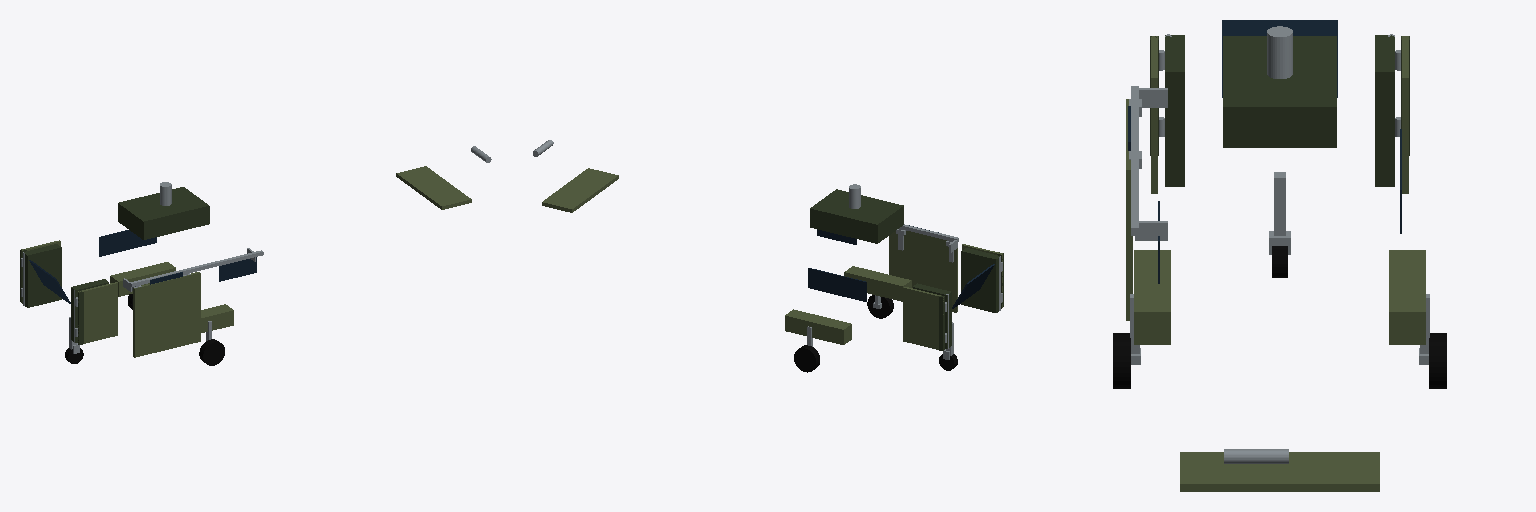
URDF robot description (transport_helicopter):
<robot name="transport_helicopter">
  <material name="olive">
    <color rgba="0.36 0.4 0.28 1" />
    </material>
  <material name="dark_olive">
    <color rgba="0.23 0.27 0.19 1" />
    </material>
  <material name="glass">
    <color rgba="0.12 0.18 0.24 0.7" />
    </material>
  <material name="rotor_gray">
    <color rgba="0.22 0.24 0.26 1" />
    </material>
  <material name="steel">
    <color rgba="0.55 0.58 0.6 1" />
    </material>
  <material name="tire">
    <color rgba="0.08 0.08 0.08 1" />
    </material>
  <link name="body">
    <inertial>
      <origin xyz="2 0 1.8" rpy="0 0 0" />
      <mass value="5200" />
      <inertia ixx="9260.33" ixy="0" ixz="0" iyy="108385" iyz="0" izz="106414" />
      </inertial>
    <visual name="fuselage_shell">
      <geometry>
        <mesh filename="assets/meshes/fuselage_shell.obj" />
        </geometry>
      <material name="olive">
        <color rgba="0.36 0.4 0.28 1" />
        </material>
      </visual>
    <visual name="tail_boom">
      <geometry>
        <mesh filename="assets/meshes/tail_boom.obj" />
        </geometry>
      <material name="olive">
        <color rgba="0.36 0.4 0.28 1" />
        </material>
      </visual>
    <visual name="vertical_fin">
      <geometry>
        <mesh filename="assets/meshes/vertical_fin.obj" />
        </geometry>
      <material name="olive">
        <color rgba="0.36 0.4 0.28 1" />
        </material>
      </visual>
    <visual name="tailplane">
      <origin xyz="6.3 0 1.95" rpy="0 0 0" />
      <geometry>
        <box size="0.7 1.85 0.08" />
        </geometry>
      <material name="olive">
        <color rgba="0.36 0.4 0.28 1" />
        </material>
      </visual>
    <visual name="mast_fairing">
      <origin xyz="-0.05 0 2.86" rpy="0 0 0" />
      <geometry>
        <box size="1.55 1.05 0.42" />
        </geometry>
      <material name="dark_olive">
        <color rgba="0.23 0.27 0.19 1" />
        </material>
      </visual>
    <visual name="engine_pod_0">
      <origin xyz="-0.2 0.56 2.98" rpy="0 0 0" />
      <geometry>
        <mesh filename="assets/meshes/engine_pod_0.obj" />
        </geometry>
      <material name="olive">
        <color rgba="0.36 0.4 0.28 1" />
        </material>
      </visual>
    <visual name="engine_pod_1">
      <origin xyz="-0.2 -0.56 2.98" rpy="0 0 0" />
      <geometry>
        <mesh filename="assets/meshes/engine_pod_1.obj" />
        </geometry>
      <material name="olive">
        <color rgba="0.36 0.4 0.28 1" />
        </material>
      </visual>
    <visual name="mast">
      <origin xyz="0 0 3.28" rpy="0 0 0" />
      <geometry>
        <cylinder radius="0.12" length="0.44" />
        </geometry>
      <material name="steel">
        <color rgba="0.55 0.58 0.6 1" />
        </material>
      </visual>
    <visual name="tail_rotor_support">
      <origin xyz="7.28 -0.22 2.56" rpy="1.5708 0 0" />
      <geometry>
        <cylinder radius="0.07" length="0.6" />
        </geometry>
      <material name="steel">
        <color rgba="0.55 0.58 0.6 1" />
        </material>
      </visual>
    <visual name="door_rail">
      <origin xyz="-0.05 -1.34 2.16" rpy="0 0 0" />
      <geometry>
        <box size="3.1 0.08 0.08" />
        </geometry>
      <material name="steel">
        <color rgba="0.55 0.58 0.6 1" />
        </material>
      </visual>
    <visual name="rail_bracket_0">
      <origin xyz="-1.58 -1.19 2.09" rpy="0 0 0" />
      <geometry>
        <box size="0.04 0.3 0.18" />
        </geometry>
      <material name="steel">
        <color rgba="0.55 0.58 0.6 1" />
        </material>
      </visual>
    <visual name="rail_bracket_1">
      <origin xyz="1.33 -1.19 2.09" rpy="0 0 0" />
      <geometry>
        <box size="0.04 0.3 0.18" />
        </geometry>
      <material name="steel">
        <color rgba="0.55 0.58 0.6 1" />
        </material>
      </visual>
    <visual name="left_door_frame">
      <origin xyz="-2.34 0.97 1.6" rpy="0 0 0" />
      <geometry>
        <box size="0.8 0.19 1.18" />
        </geometry>
      <material name="dark_olive">
        <color rgba="0.23 0.27 0.19 1" />
        </material>
      </visual>
    <visual name="right_door_frame">
      <origin xyz="-2.34 -0.97 1.6" rpy="0 0 0" />
      <geometry>
        <box size="0.8 0.19 1.18" />
        </geometry>
      <material name="dark_olive">
        <color rgba="0.23 0.27 0.19 1" />
        </material>
      </visual>
    <visual name="left_hinge_post">
      <origin xyz="-2.72 1.03 1.6" rpy="0 0 0" />
      <geometry>
        <cylinder radius="0.035" length="1.18" />
        </geometry>
      <material name="steel">
        <color rgba="0.55 0.58 0.6 1" />
        </material>
      </visual>
    <visual name="right_hinge_post">
      <origin xyz="-2.72 -1.03 1.6" rpy="0 0 0" />
      <geometry>
        <cylinder radius="0.035" length="1.18" />
        </geometry>
      <material name="steel">
        <color rgba="0.55 0.58 0.6 1" />
        </material>
      </visual>
    <visual name="sponson_0">
      <origin xyz="0.15 1.18 0.86" rpy="0 0 0" />
      <geometry>
        <box size="1.35 0.34 0.34" />
        </geometry>
      <material name="olive">
        <color rgba="0.36 0.4 0.28 1" />
        </material>
      </visual>
    <visual name="main_strut_0">
      <origin xyz="0.25 1.34 0.61" rpy="0 0 0" />
      <geometry>
        <box size="0.09 0.09 0.62" />
        </geometry>
      <material name="steel">
        <color rgba="0.55 0.58 0.6 1" />
        </material>
      </visual>
    <visual name="main_axle_0">
      <origin xyz="0.25 1.38 0.3" rpy="0 0 0" />
      <geometry>
        <box size="0.16 0.18 0.1" />
        </geometry>
      <material name="steel">
        <color rgba="0.55 0.58 0.6 1" />
        </material>
      </visual>
    <visual name="main_wheel_0">
      <origin xyz="0.25 1.46 0.26" rpy="1.5708 0 0" />
      <geometry>
        <cylinder radius="0.26" length="0.16" />
        </geometry>
      <material name="tire">
        <color rgba="0.08 0.08 0.08 1" />
        </material>
      </visual>
    <visual name="sponson_1">
      <origin xyz="0.15 -1.18 0.86" rpy="0 0 0" />
      <geometry>
        <box size="1.35 0.34 0.34" />
        </geometry>
      <material name="olive">
        <color rgba="0.36 0.4 0.28 1" />
        </material>
      </visual>
    <visual name="main_strut_1">
      <origin xyz="0.25 -1.34 0.61" rpy="0 0 0" />
      <geometry>
        <box size="0.09 0.09 0.62" />
        </geometry>
      <material name="steel">
        <color rgba="0.55 0.58 0.6 1" />
        </material>
      </visual>
    <visual name="main_axle_1">
      <origin xyz="0.25 -1.38 0.3" rpy="0 0 0" />
      <geometry>
        <box size="0.16 0.18 0.1" />
        </geometry>
      <material name="steel">
        <color rgba="0.55 0.58 0.6 1" />
        </material>
      </visual>
    <visual name="main_wheel_1">
      <origin xyz="0.25 -1.46 0.26" rpy="1.5708 0 0" />
      <geometry>
        <cylinder radius="0.26" length="0.16" />
        </geometry>
      <material name="tire">
        <color rgba="0.08 0.08 0.08 1" />
        </material>
      </visual>
    <visual name="nose_strut">
      <origin xyz="-2.18 0 0.66" rpy="0 0 0" />
      <geometry>
        <box size="0.12 0.12 0.72" />
        </geometry>
      <material name="steel">
        <color rgba="0.55 0.58 0.6 1" />
        </material>
      </visual>
    <visual name="nose_fork">
      <origin xyz="-2.15 0 0.34" rpy="0 0 0" />
      <geometry>
        <box size="0.14 0.2 0.18" />
        </geometry>
      <material name="steel">
        <color rgba="0.55 0.58 0.6 1" />
        </material>
      </visual>
    <visual name="nose_wheel">
      <origin xyz="-2.15 0 0.18" rpy="1.5708 0 0" />
      <geometry>
        <cylinder radius="0.18" length="0.14" />
        </geometry>
      <material name="tire">
        <color rgba="0.08 0.08 0.08 1" />
        </material>
      </visual>
    <visual name="windshield">
      <origin xyz="-2.72 0 1.95" rpy="0 -0.5 0" />
      <geometry>
        <box size="0.03 1.08 0.72" />
        </geometry>
      <material name="glass">
        <color rgba="0.12 0.18 0.24 0.7" />
        </material>
      </visual>
    <visual name="left_cabin_glass">
      <origin xyz="-0.25 1.12 1.86" rpy="0 0 0" />
      <geometry>
        <box size="1.35 0.025 0.44" />
        </geometry>
      <material name="glass">
        <color rgba="0.12 0.18 0.24 0.7" />
        </material>
      </visual>
    <visual name="right_rear_glass">
      <origin xyz="1.05 -1.12 1.84" rpy="0 0 0" />
      <geometry>
        <box size="0.9 0.025 0.42" />
        </geometry>
      <material name="glass">
        <color rgba="0.12 0.18 0.24 0.7" />
        </material>
      </visual>
    </link>
  <link name="main_rotor">
    <inertial>
      <origin xyz="0 0 0.12" rpy="0 0 0" />
      <mass value="240" />
      <inertia ixx="2233.75" ixy="0" ixz="0" iyy="2233.75" iyz="0" izz="4465.2" />
      </inertial>
    <visual name="main_rotor">
      <geometry>
        <mesh filename="assets/meshes/main_rotor.obj" />
        </geometry>
      <material name="rotor_gray">
        <color rgba="0.22 0.24 0.26 1" />
        </material>
      </visual>
    </link>
  <link name="tail_rotor">
    <inertial>
      <origin xyz="0 0 0" rpy="1.5708 0 0" />
      <mass value="28" />
      <inertia ixx="6.03773" ixy="0" ixz="0" iyy="6.03773" iyz="0" izz="11.8496" />
      </inertial>
    <visual name="tail_rotor">
      <geometry>
        <mesh filename="assets/meshes/tail_rotor.obj" />
        </geometry>
      <material name="rotor_gray">
        <color rgba="0.22 0.24 0.26 1" />
        </material>
      </visual>
    </link>
  <link name="left_cockpit_door">
    <inertial>
      <origin xyz="0.46 0 0" rpy="0 0 0" />
      <mass value="35" />
      <inertia ixx="4.07983" ixy="0" ixz="0" iyy="6.52983" iyz="0" izz="2.48733" />
      </inertial>
    <visual name="left_panel">
      <origin xyz="0.46 0 0" rpy="0 0 0" />
      <geometry>
        <box size="0.92 0.06 1.18" />
        </geometry>
      <material name="olive">
        <color rgba="0.36 0.4 0.28 1" />
        </material>
      </visual>
    <visual name="left_hinge_strip">
      <origin xyz="0.05 0 0" rpy="0 0 0" />
      <geometry>
        <box size="0.1 0.08 1.18" />
        </geometry>
      <material name="dark_olive">
        <color rgba="0.23 0.27 0.19 1" />
        </material>
      </visual>
    <visual name="left_window">
      <origin xyz="0.48 0 0.18" rpy="0 0 0" />
      <geometry>
        <box size="0.5 0.025 0.56" />
        </geometry>
      <material name="glass">
        <color rgba="0.12 0.18 0.24 0.7" />
        </material>
      </visual>
    <visual name="left_hinge_upper">
      <origin xyz="0 -0.06 0.34" rpy="0 0 0" />
      <geometry>
        <cylinder radius="0.035" length="0.18" />
        </geometry>
      <material name="steel">
        <color rgba="0.55 0.58 0.6 1" />
        </material>
      </visual>
    <visual name="left_hinge_lower">
      <origin xyz="0 -0.06 -0.34" rpy="0 0 0" />
      <geometry>
        <cylinder radius="0.035" length="0.18" />
        </geometry>
      <material name="steel">
        <color rgba="0.55 0.58 0.6 1" />
        </material>
      </visual>
    </link>
  <link name="right_cockpit_door">
    <inertial>
      <origin xyz="0.46 0 0" rpy="0 0 0" />
      <mass value="35" />
      <inertia ixx="4.07983" ixy="0" ixz="0" iyy="6.52983" iyz="0" izz="2.48733" />
      </inertial>
    <visual name="right_panel">
      <origin xyz="0.46 0 0" rpy="0 0 0" />
      <geometry>
        <box size="0.92 0.06 1.18" />
        </geometry>
      <material name="olive">
        <color rgba="0.36 0.4 0.28 1" />
        </material>
      </visual>
    <visual name="right_hinge_strip">
      <origin xyz="0.05 0 0" rpy="0 0 0" />
      <geometry>
        <box size="0.1 0.08 1.18" />
        </geometry>
      <material name="dark_olive">
        <color rgba="0.23 0.27 0.19 1" />
        </material>
      </visual>
    <visual name="right_window">
      <origin xyz="0.48 0 0.18" rpy="0 0 0" />
      <geometry>
        <box size="0.5 0.025 0.56" />
        </geometry>
      <material name="glass">
        <color rgba="0.12 0.18 0.24 0.7" />
        </material>
      </visual>
    <visual name="right_hinge_upper">
      <origin xyz="0 0.06 0.34" rpy="0 0 0" />
      <geometry>
        <cylinder radius="0.035" length="0.18" />
        </geometry>
      <material name="steel">
        <color rgba="0.55 0.58 0.6 1" />
        </material>
      </visual>
    <visual name="right_hinge_lower">
      <origin xyz="0 0.06 -0.34" rpy="0 0 0" />
      <geometry>
        <cylinder radius="0.035" length="0.18" />
        </geometry>
      <material name="steel">
        <color rgba="0.55 0.58 0.6 1" />
        </material>
      </visual>
    </link>
  <link name="right_cabin_door">
    <inertial>
      <origin xyz="0.78 -0.03 -0.82" rpy="0 0 0" />
      <mass value="70" />
      <inertia ixx="14.9917" ixy="0" ixz="0" iyy="28.9479" iyz="0" izz="14.0729" />
      </inertial>
    <visual name="cabin_panel">
      <origin xyz="0.775 -0.05 -0.84" rpy="0 0 0" />
      <geometry>
        <box size="1.55 0.06 1.55" />
        </geometry>
      <material name="olive">
        <color rgba="0.36 0.4 0.28 1" />
        </material>
      </visual>
    <visual name="cabin_window">
      <origin xyz="0.76 -0.055 -0.22" rpy="0 0 0" />
      <geometry>
        <box size="0.78 0.025 0.5" />
        </geometry>
      <material name="glass">
        <color rgba="0.12 0.18 0.24 0.7" />
        </material>
      </visual>
    <visual name="front_hanger">
      <origin xyz="0.1 0 -0.27" rpy="0 0 0" />
      <geometry>
        <box size="0.1 0.08 0.46" />
        </geometry>
      <material name="steel">
        <color rgba="0.55 0.58 0.6 1" />
        </material>
      </visual>
    <visual name="rear_hanger">
      <origin xyz="1.25 0 -0.27" rpy="0 0 0" />
      <geometry>
        <box size="0.1 0.08 0.46" />
        </geometry>
      <material name="steel">
        <color rgba="0.55 0.58 0.6 1" />
        </material>
      </visual>
    <visual name="front_carriage">
      <origin xyz="0.1 0 -0.11" rpy="0 0 0" />
      <geometry>
        <box size="0.18 0.12 0.1" />
        </geometry>
      <material name="steel">
        <color rgba="0.55 0.58 0.6 1" />
        </material>
      </visual>
    <visual name="rear_carriage">
      <origin xyz="1.25 0 -0.11" rpy="0 0 0" />
      <geometry>
        <box size="0.18 0.12 0.1" />
        </geometry>
      <material name="steel">
        <color rgba="0.55 0.58 0.6 1" />
        </material>
      </visual>
    </link>
  <joint name="body_to_main_rotor" type="continuous">
    <origin xyz="0 0 3.5" rpy="0 0 0" />
    <parent link="body" />
    <child link="main_rotor" />
    <axis xyz="0 0 1" />
    <limit effort="1800" velocity="40" />
    </joint>
  <joint name="body_to_tail_rotor" type="continuous">
    <origin xyz="7.28 -0.61 2.56" rpy="0 0 0" />
    <parent link="body" />
    <child link="tail_rotor" />
    <axis xyz="0 -1 0" />
    <limit effort="300" velocity="70" />
    </joint>
  <joint name="body_to_left_cockpit_door" type="revolute">
    <origin xyz="-2.72 1.16 1.6" rpy="0 0 0" />
    <parent link="body" />
    <child link="left_cockpit_door" />
    <axis xyz="0 0 1" />
    <limit effort="120" velocity="1.4" lower="0" upper="1.25664" />
    </joint>
  <joint name="body_to_right_cockpit_door" type="revolute">
    <origin xyz="-2.72 -1.16 1.6" rpy="0 0 0" />
    <parent link="body" />
    <child link="right_cockpit_door" />
    <axis xyz="0 0 -1" />
    <limit effort="120" velocity="1.4" lower="0" upper="1.25664" />
    </joint>
  <joint name="body_to_right_cabin_door" type="prismatic">
    <origin xyz="-1.55 -1.34 2.16" rpy="0 0 0" />
    <parent link="body" />
    <child link="right_cabin_door" />
    <axis xyz="1 0 0" />
    <limit effort="450" velocity="0.8" lower="0" upper="1.25" />
    </joint>
  </robot>

--- Facts derived from the render (not from the file) ---
Views: 3 orthographic renders of the robot side by side, from view 1: azimuth 30°, elevation 25°; view 2: azimuth 150°, elevation 25°; view 3: azimuth 270°, elevation 25°.
Robot: transport_helicopter — 6 links, 5 joints (2 revolute, 2 continuous, 1 prismatic); root link body; default pose: every joint at zero.
Links seen in each view (by area): view 1: body, right_cabin_door, right_cockpit_door; view 2: body, right_cabin_door, left_cockpit_door; view 3: body, left_cockpit_door, right_cockpit_door, right_cabin_door.
Link boxes in pixels (box(x1,y1,x2,y2)): body: box(23, 146, 491, 365); right_cabin_door: box(132, 272, 200, 357); right_cockpit_door: box(75, 282, 117, 344); body: box(533, 140, 1000, 372); right_cabin_door: box(889, 225, 957, 312); left_cockpit_door: box(903, 287, 946, 350); body: box(1113, 20, 1446, 491); left_cockpit_door: box(1395, 36, 1409, 193); right_cockpit_door: box(1150, 36, 1164, 193); right_cabin_door: box(1126, 99, 1141, 320).
Bounding box of the posed robot: 10.26 × 3.08 × 3.5 m (x, y, z).
0 mesh visuals loaded from 7 distinct referenced files (none loaded); not drawn: 1 (reference not matched to a file when rendering), 6 (file found but could not be loaded).
